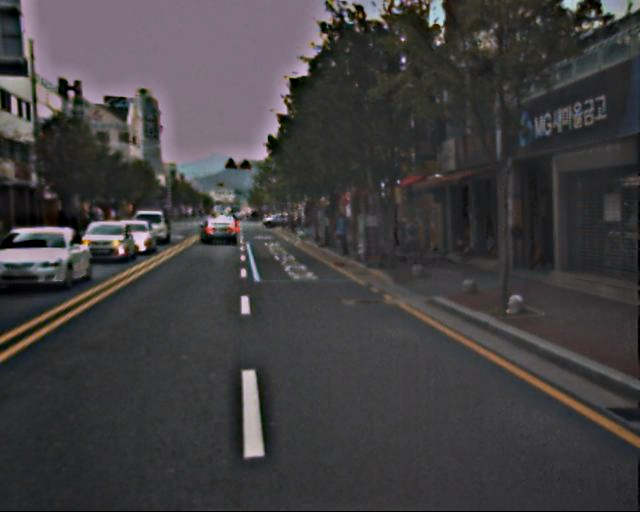person: (334, 213, 353, 259), (400, 218, 418, 261)
